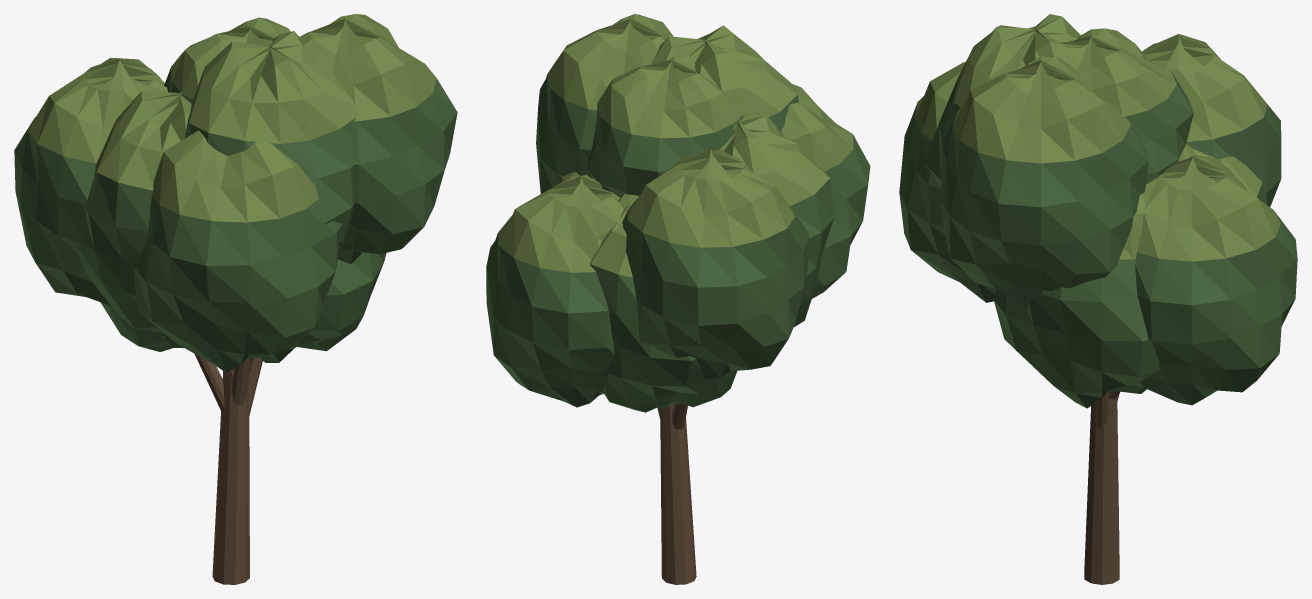
Rendered from studio-tree.glb.
3 views of the same model, side by side, from view 1: azimuth 30°, elevation 25°; view 2: azimuth 150°, elevation 25°; view 3: azimuth 270°, elevation 25° (orthographic). The views are drawn at different scales.
Size of the model in its own units: 2.9 by 4.6 by 2.98.
